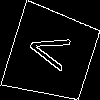V: (26, 29, 81, 75)
